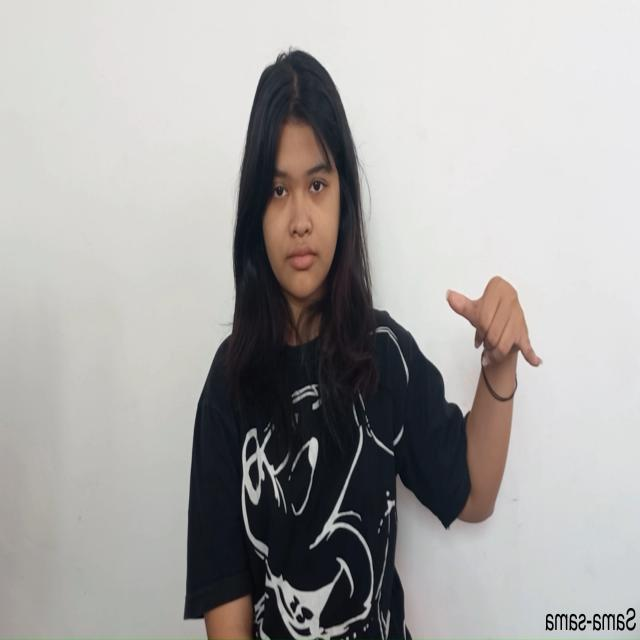Sama-sama -BISINDO-: (443, 270, 545, 374)
